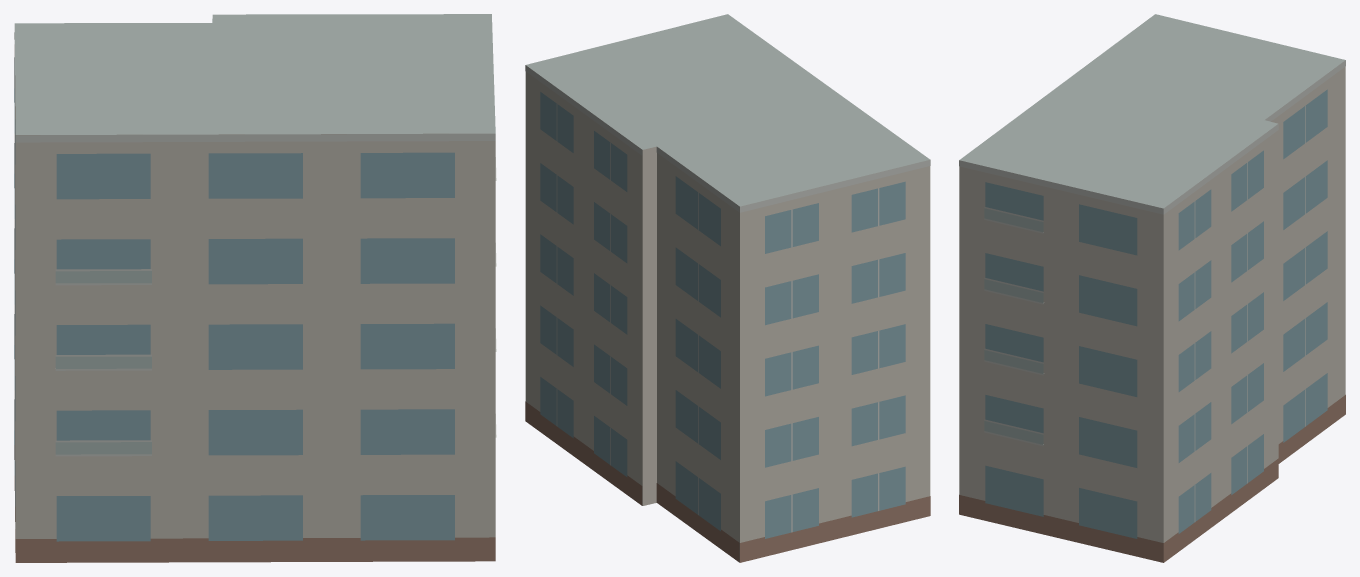
The model's file is survey-upis-33035422.glb.
3 views of the same model, side by side, from view 1: azimuth 30°, elevation 25°; view 2: azimuth 150°, elevation 25°; view 3: azimuth 270°, elevation 25° (orthographic). The views are drawn at different scales.
Parts seen in each view (by area): view 1: survey-upis-33035422.tmp; view 2: survey-upis-33035422.tmp; view 3: survey-upis-33035422.tmp.
Boxes of the visible parts, left/top/right/bottom form: survey-upis-33035422.tmp: left=14, top=14, right=496, bottom=562; survey-upis-33035422.tmp: left=525, top=14, right=930, bottom=562; survey-upis-33035422.tmp: left=959, top=14, right=1345, bottom=562.
Size of the model in its own units: 16.49 by 14 by 13.85.
